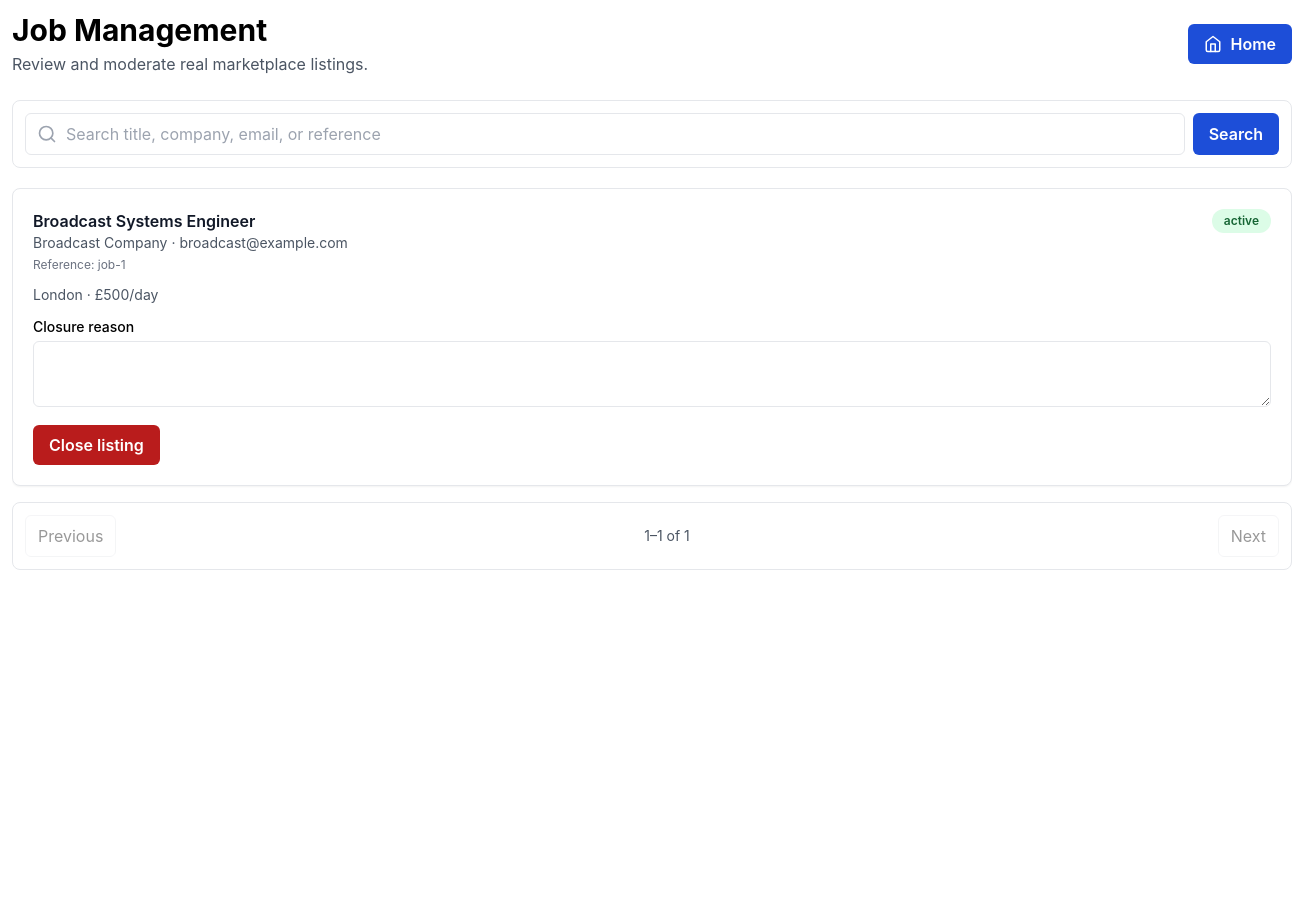
Test case: JobManagementView › loads real jobs and requires a reason before closure
The width and height of the screenshot is (1304, 912).
Expected: the heading "Broadcast Systems Engineer" is shown, x1=33 y1=211 x2=255 y2=231
Click the button "Close listing": (96, 445) x1=33 y1=425 x2=160 y2=465
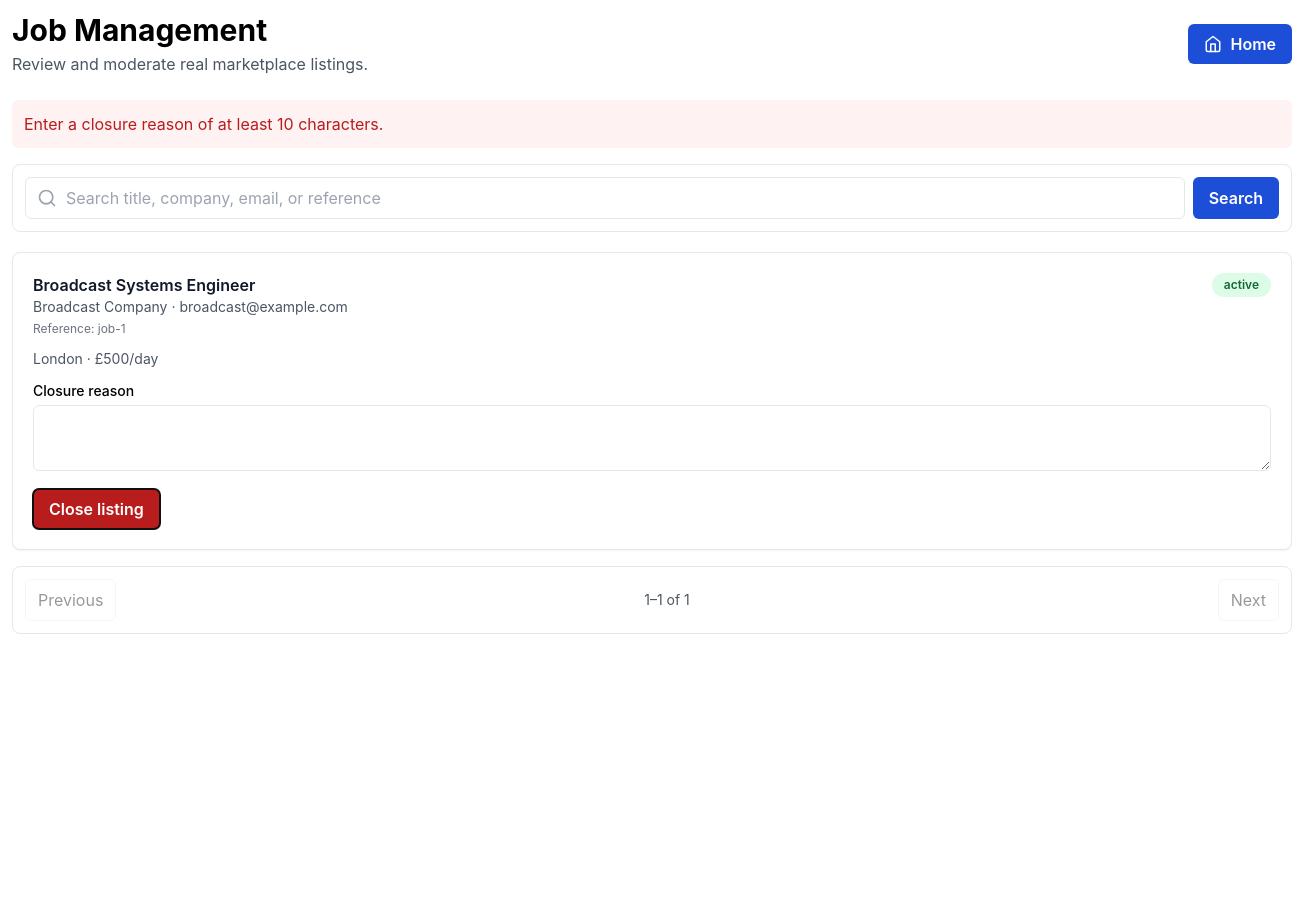
Expected: the message shows "at least 10 characters", x1=24 y1=114 x2=383 y2=134
In the text box labelled "Closure reason": (652, 438) x1=33 y1=405 x2=1271 y2=471, type "Listing breaches marketplace posting standards."
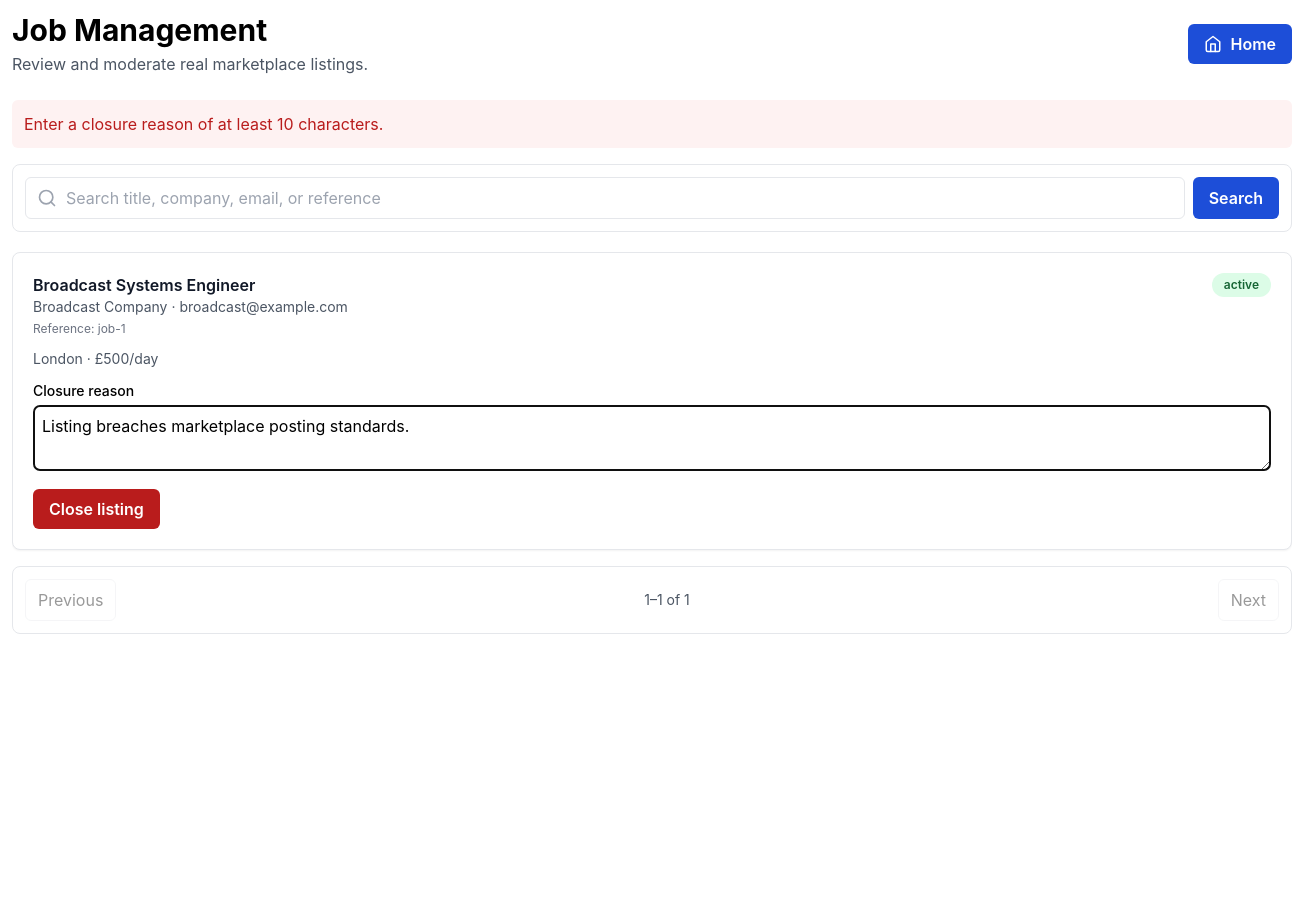
Click the button "Close listing": (96, 509) x1=33 y1=489 x2=160 y2=529
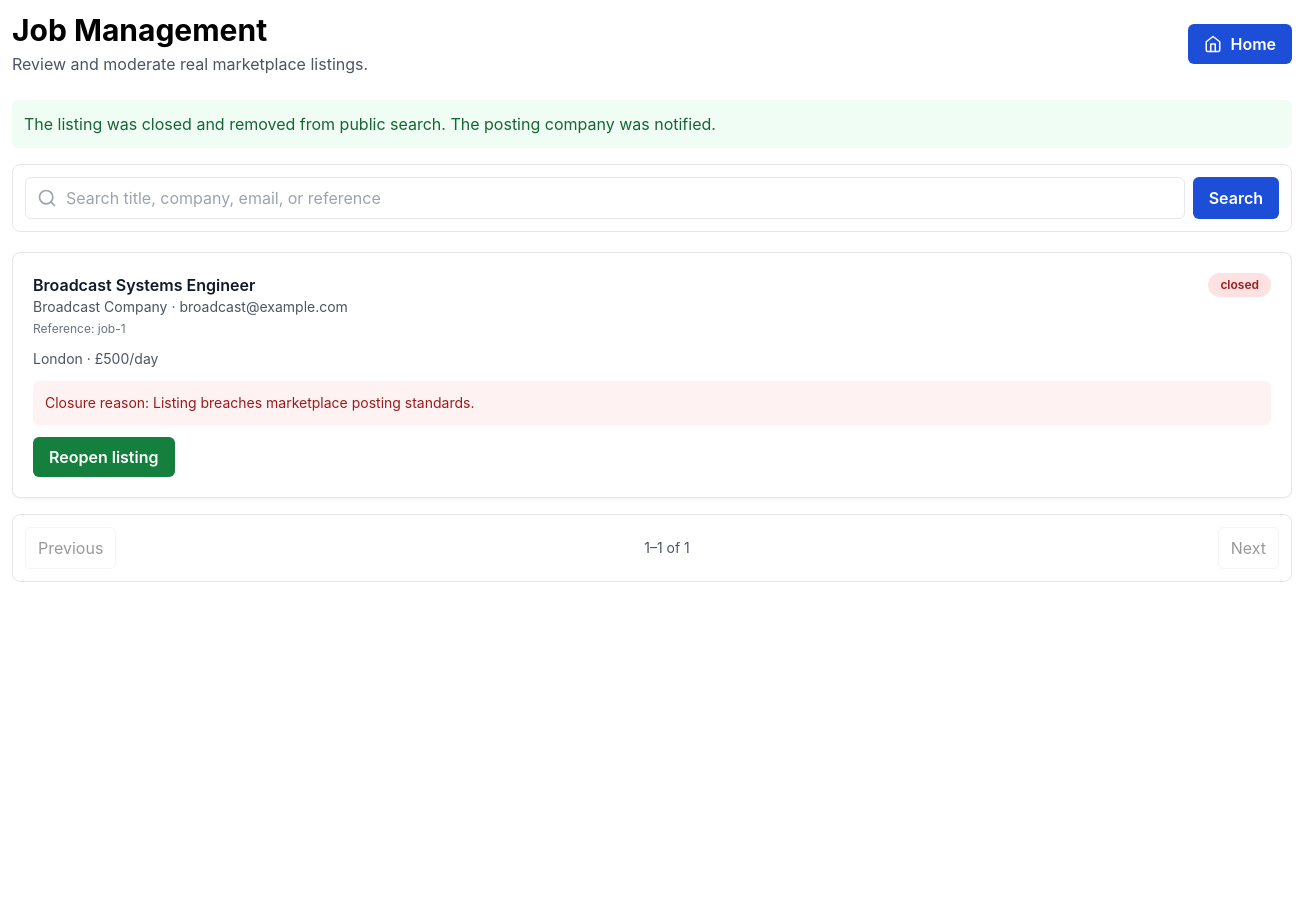
Expected: the text "closed" is shown, x1=1208 y1=273 x2=1271 y2=297
Expected: the message shows "removed from public search", x1=24 y1=114 x2=716 y2=134
Expected: the message shows "posting company was notified", x1=24 y1=114 x2=716 y2=134
